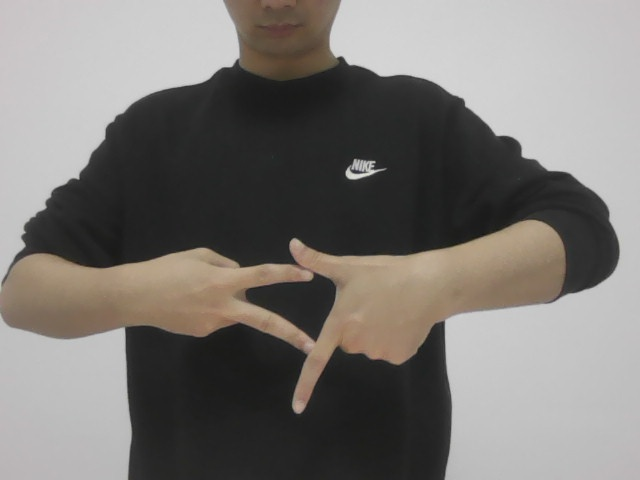introduce: (123, 216, 440, 419)
